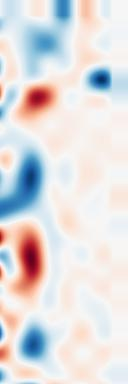filament: (11, 217, 54, 296)
